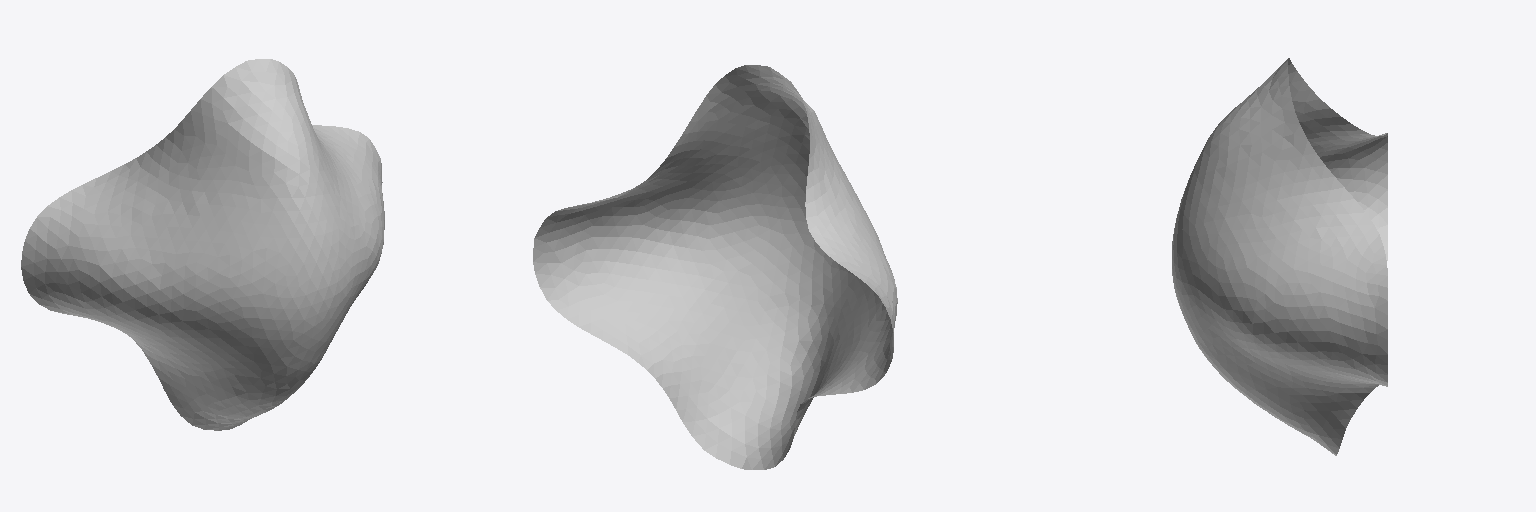
The model's file is ttop2_0.obj.
3 views of the same model, side by side, from view 1: azimuth 30°, elevation 25°; view 2: azimuth 150°, elevation 25°; view 3: azimuth 270°, elevation 25° (orthographic).
Size of the model in its own units: 29.12 by 29.8 by 15.13.